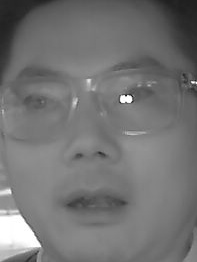eye: (21, 91, 58, 112)
glass: (93, 66, 183, 134), (2, 74, 77, 142)
mouth: (60, 184, 127, 225)
